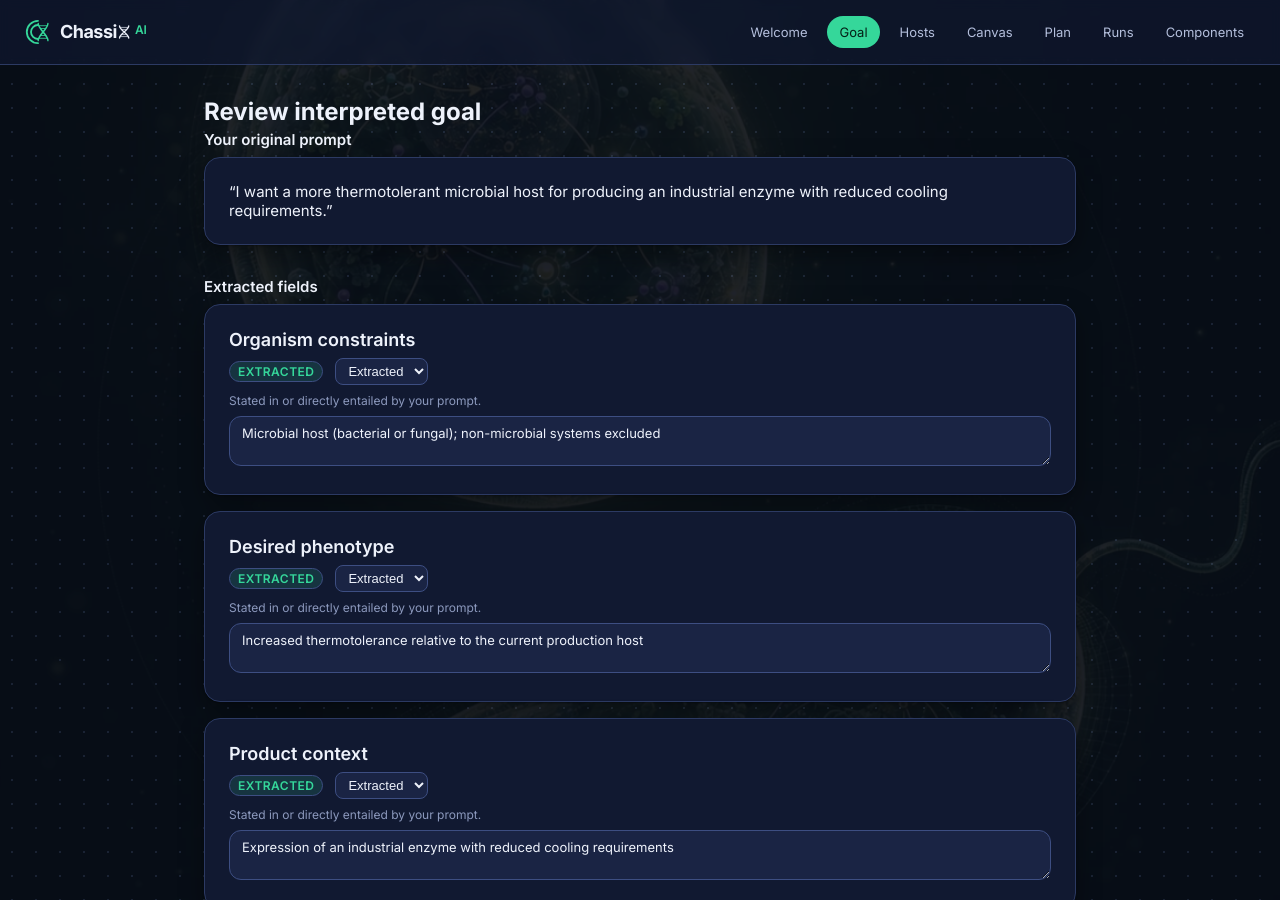
Test case: GoalReviewPage (Step 1.6, BF-01 / PRD §A) › makes every extracted field editable with a visible status
Replace the text in the text box named "Edit Organism constraints" with "Fungal host only" at (640, 441), box left=229, top=416, right=1051, bottom=466
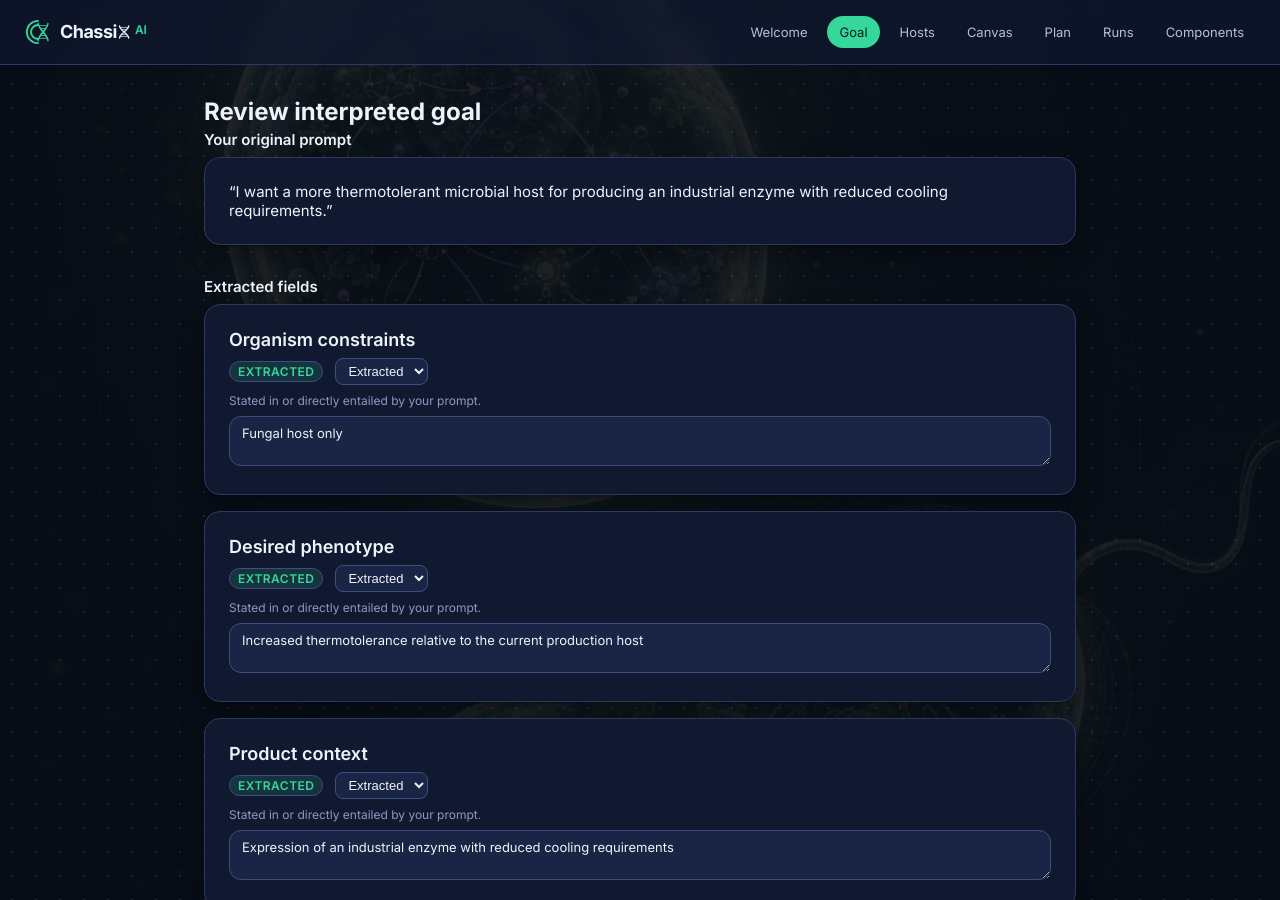
// Changing a field's status to Unknown replaces its value editor with an explicit marker.
Select "Unknown" in the dropdown named "Change status for Product context" at (382, 786), box left=336, top=772, right=428, bottom=799
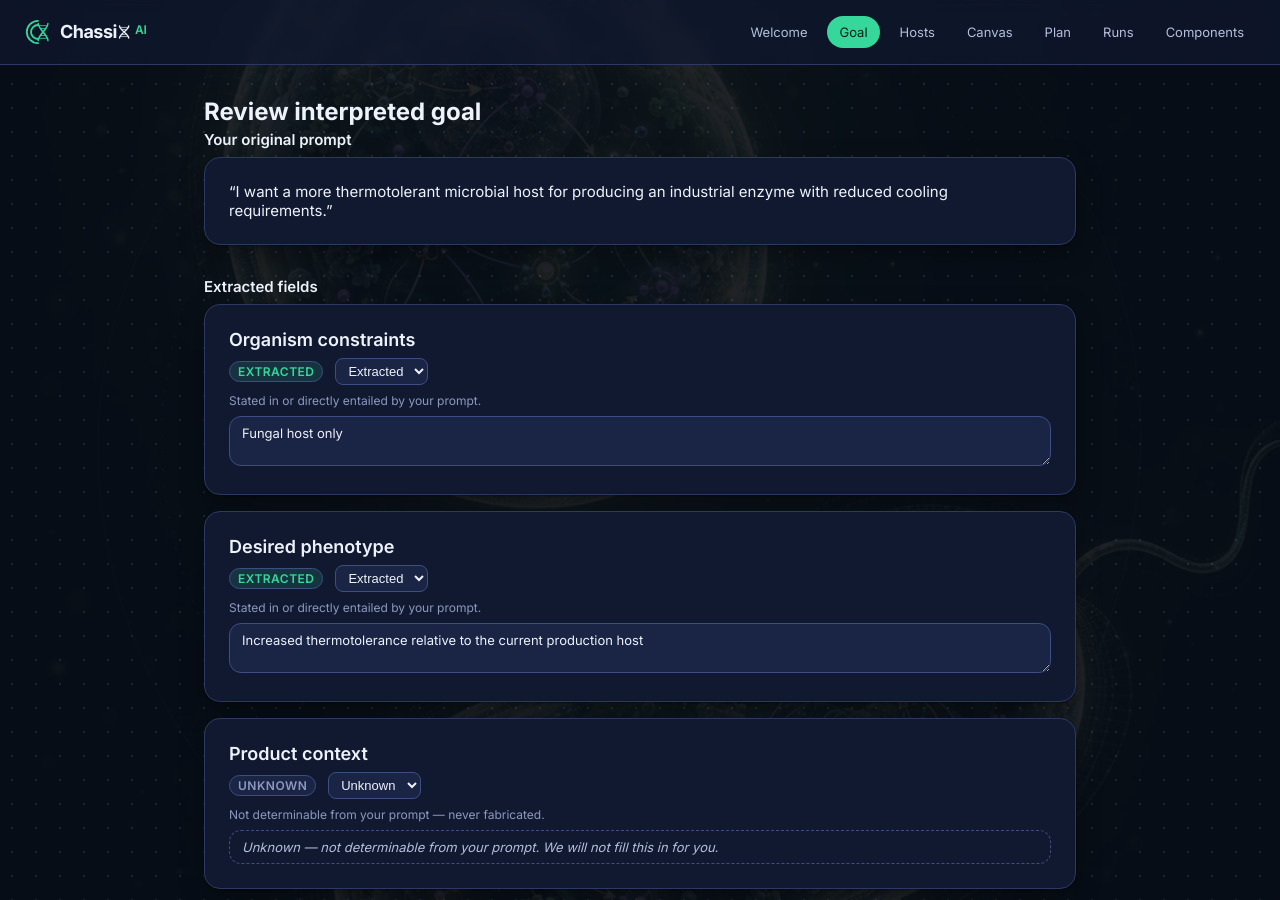
Result: the text with test id "unknown-productContext" is shown at left=229, top=830, right=1051, bottom=864
